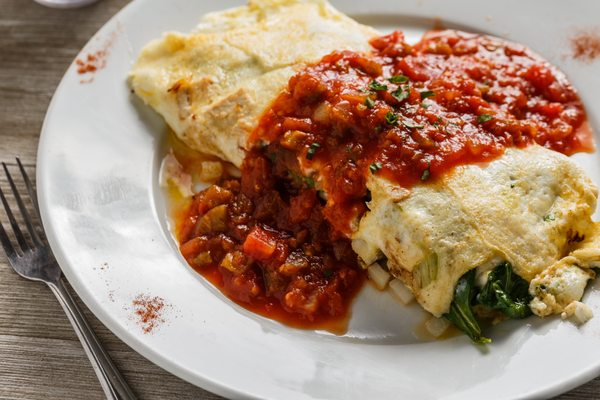burger: (0, 152, 137, 398)
